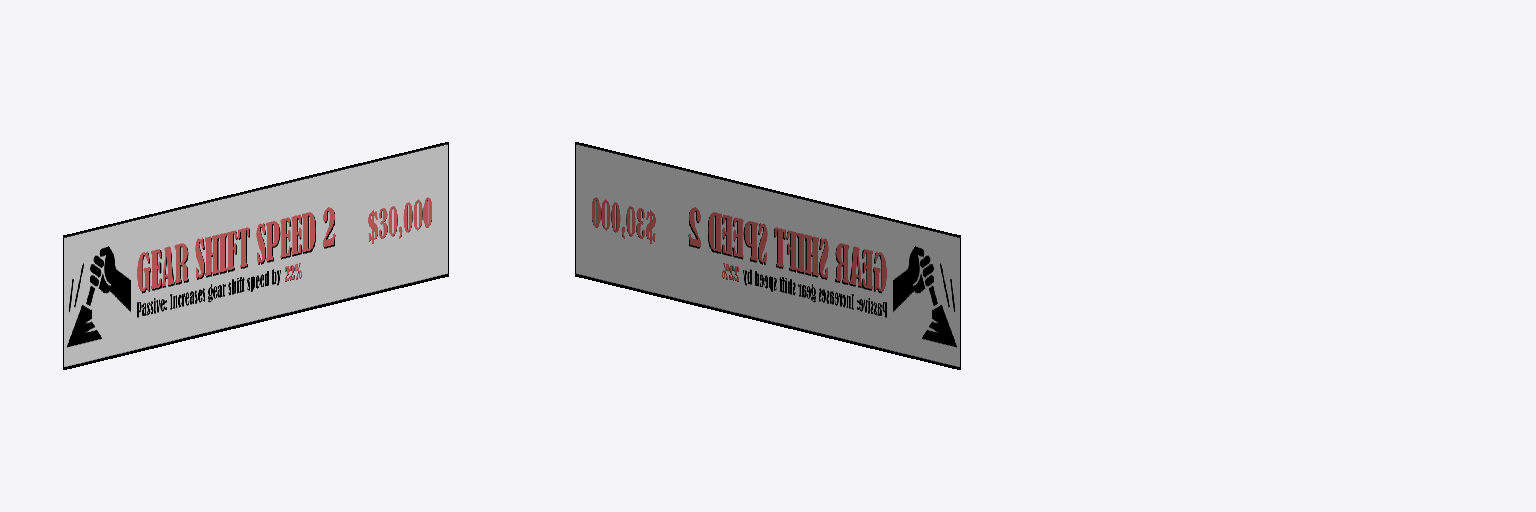
3 views of the same model, side by side, from view 1: azimuth 30°, elevation 25°; view 2: azimuth 150°, elevation 25°; view 3: azimuth 270°, elevation 25° (orthographic).
Parts seen in each view (by area): view 1: Plane.004; view 2: Plane.004; view 3: none.
Part boxes in pixels (left/top/right/bottom): Plane.004: left=63, top=142, right=448, bottom=369; Plane.004: left=575, top=142, right=960, bottom=369.
Bounding box in the file's own units: 0.9 × 0.3 × 0.
Materials: 1 (1 with a texture image).